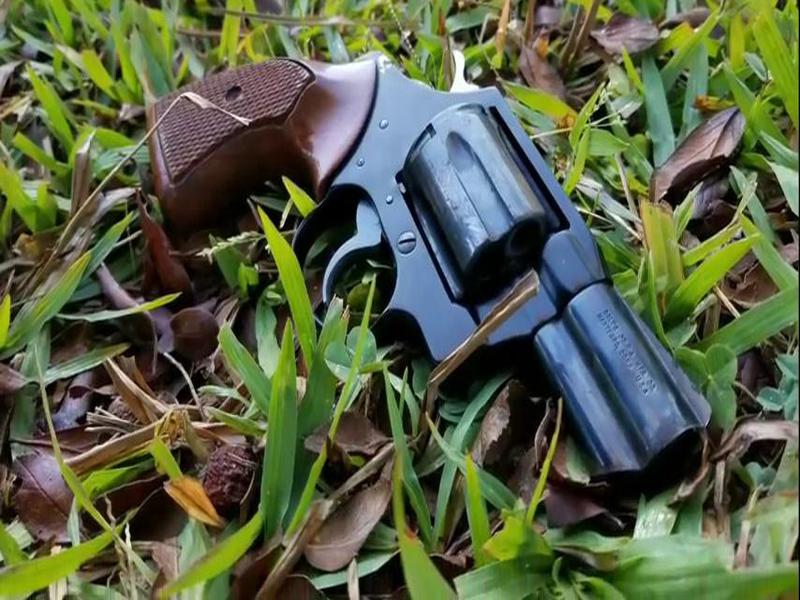Revolver: (125, 34, 736, 516)
